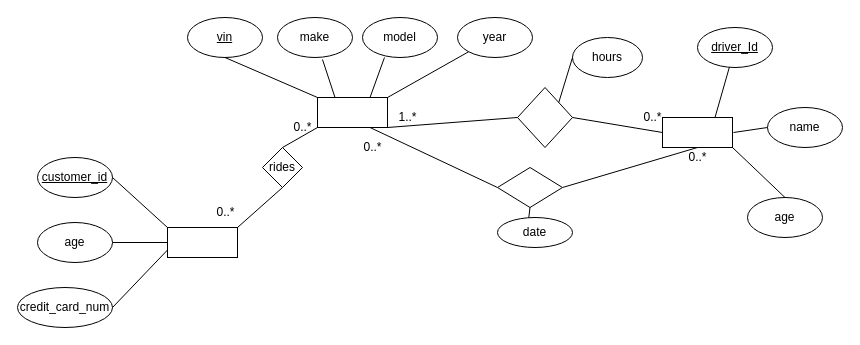
Image size: 860x345. Some labels were removed from this diagram. Here are the shapes that lost their labels. From the top down, the centre of each, then its label:
point (352, 112): Car
point (544, 117): drives
point (697, 132): Driver
point (529, 187): interest
point (202, 242): Customer
